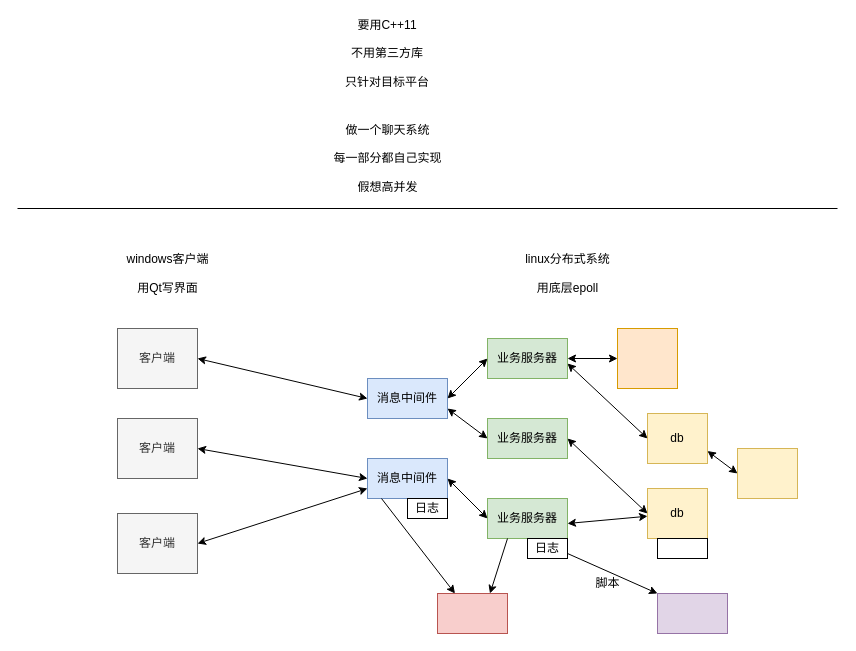
This 856x651 diagram has some shape labels left out. Each missing label, with the centre of its shape:
"kv" goes at (647,358).
"NFS归档" goes at (692,613).
"redo log" goes at (682,548).
"灾备db" goes at (767,473).
"监控" goes at (472,613).
